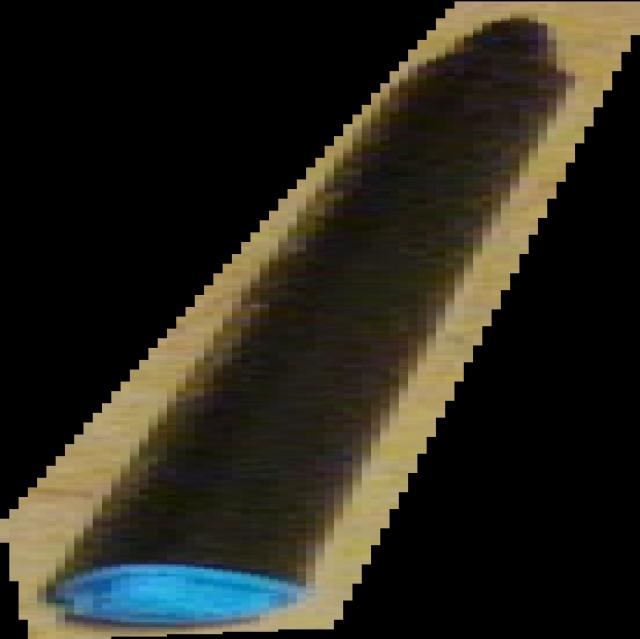blue: (0, 1, 640, 639)
